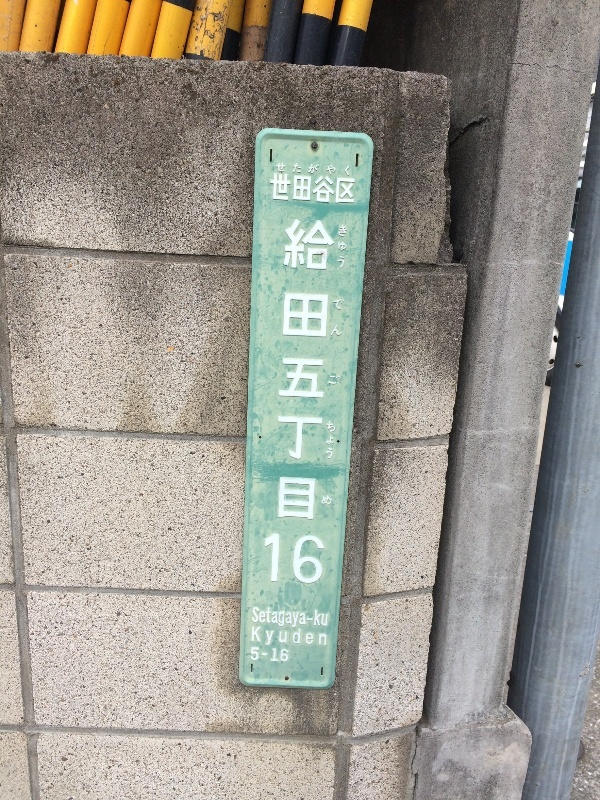text: (289, 219, 304, 584), (305, 219, 320, 584), (321, 219, 335, 584), (282, 219, 288, 584), (339, 225, 352, 269), (273, 174, 288, 204), (289, 174, 304, 204), (305, 174, 320, 204), (321, 174, 336, 204), (337, 174, 352, 204), (257, 607, 272, 633), (273, 607, 288, 633), (289, 607, 304, 633), (305, 607, 320, 633), (257, 621, 272, 646), (273, 621, 288, 646), (289, 621, 304, 646), (305, 621, 320, 646), (327, 420, 336, 459), (337, 300, 345, 337), (257, 647, 272, 663), (273, 647, 288, 663), (289, 163, 304, 177), (305, 163, 320, 177), (321, 163, 336, 177), (321, 607, 328, 633), (337, 163, 350, 177), (276, 163, 288, 177), (321, 621, 327, 646), (322, 496, 336, 506), (333, 300, 336, 337), (252, 621, 256, 646), (253, 607, 256, 633), (252, 647, 256, 663), (353, 174, 355, 204), (330, 375, 336, 385), (271, 174, 272, 204), (337, 375, 340, 385)
